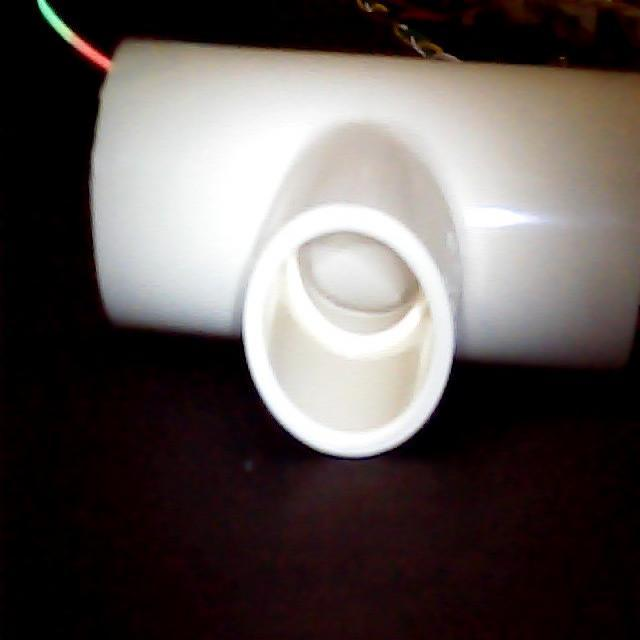T Joint: (90, 39, 640, 450)
